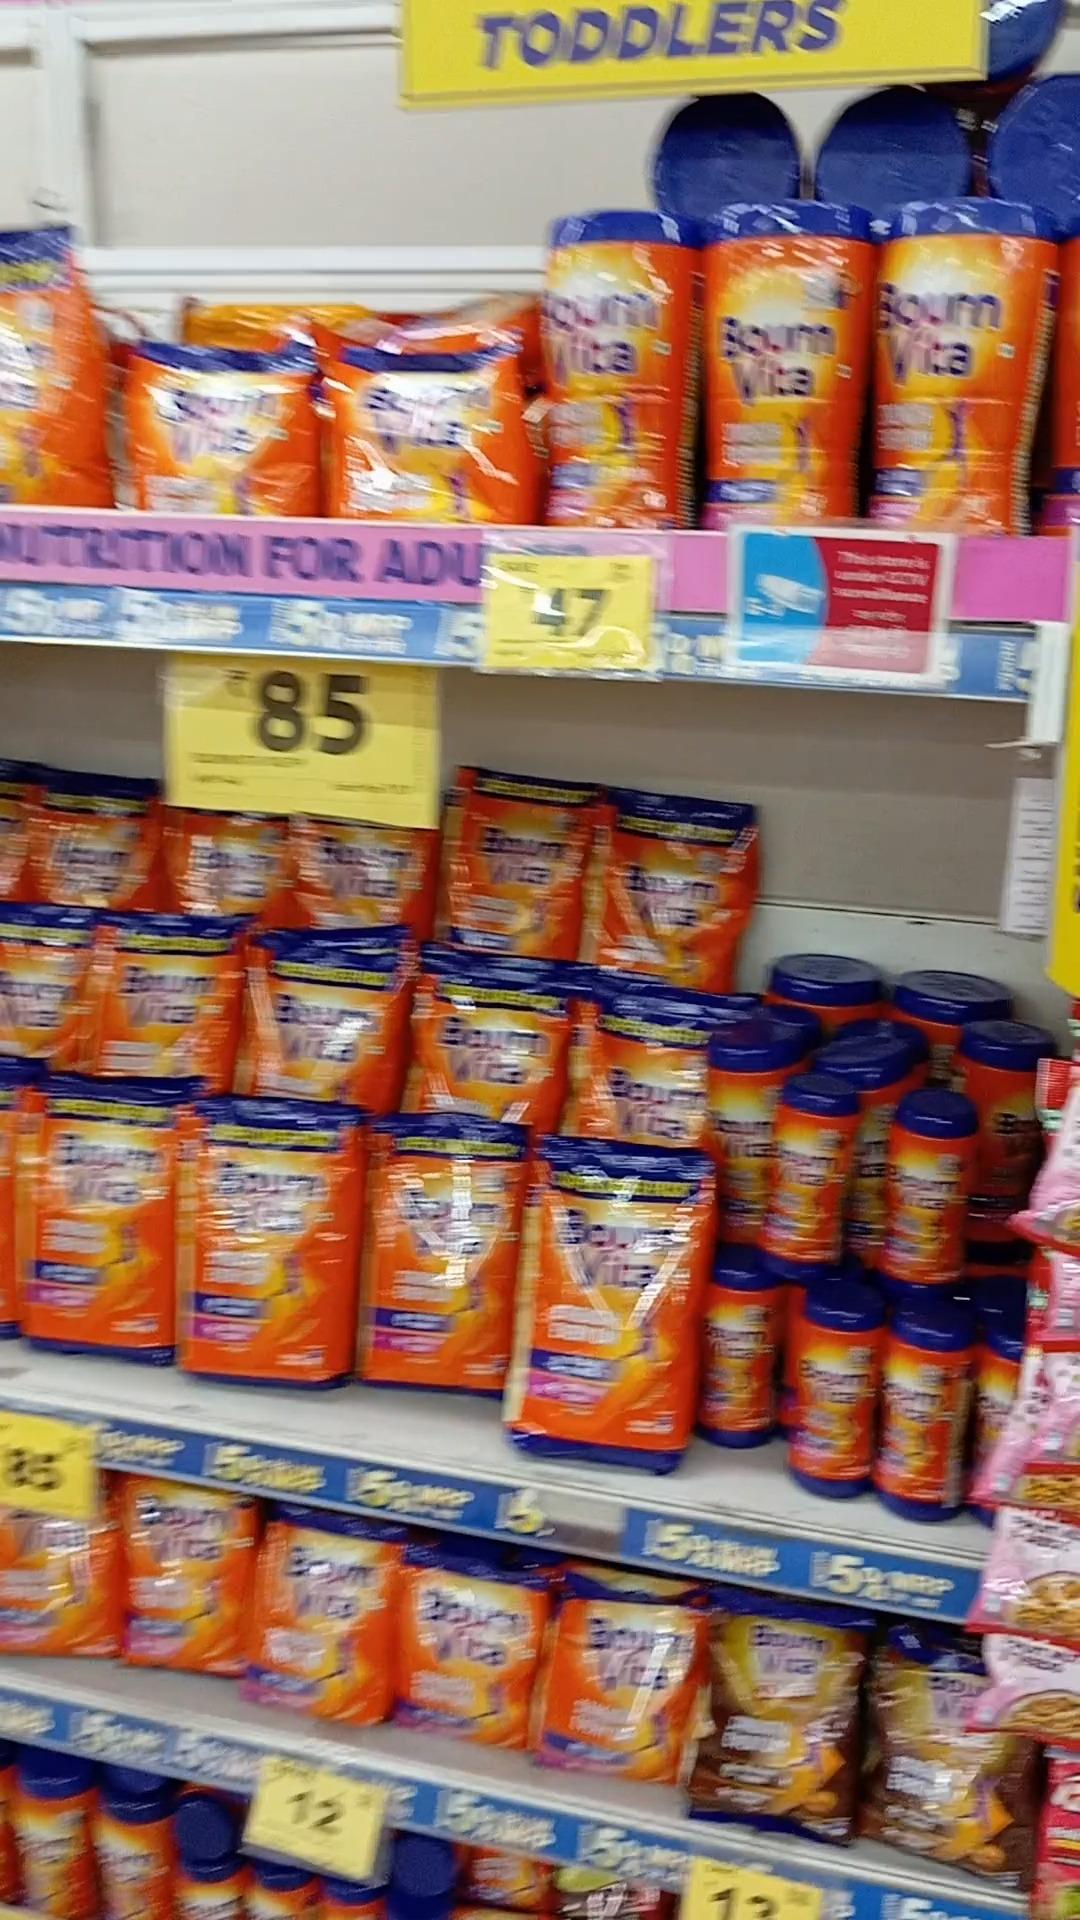BOURN_VITA_1_KG_JAR: (877, 193, 1035, 530), (700, 202, 857, 521), (542, 212, 694, 530)
BOURN_VITA_1_KG_POUCH: (529, 1137, 686, 1466), (178, 1102, 349, 1390), (16, 1084, 171, 1364), (363, 1121, 501, 1387), (601, 781, 741, 976), (450, 765, 578, 949), (253, 934, 392, 1091), (90, 919, 228, 1069), (414, 964, 554, 1112)
BOURN_VITA_500_G_JAR: (889, 1097, 969, 1302), (793, 1287, 870, 1493), (886, 1308, 960, 1520), (766, 1084, 848, 1261), (700, 1265, 773, 1448)
BOURN_VITA_500_G_POUCH: (327, 344, 535, 524), (120, 349, 318, 518), (262, 1502, 388, 1722), (545, 1590, 682, 1782), (400, 1548, 525, 1743)
BOURN_VITA_750_G_POUCH: (124, 1480, 241, 1679)
BOURN_VITA_FIVE_STAR_MAGIC_500_G_POUCH: (862, 1621, 1027, 1883), (704, 1590, 853, 1837)
